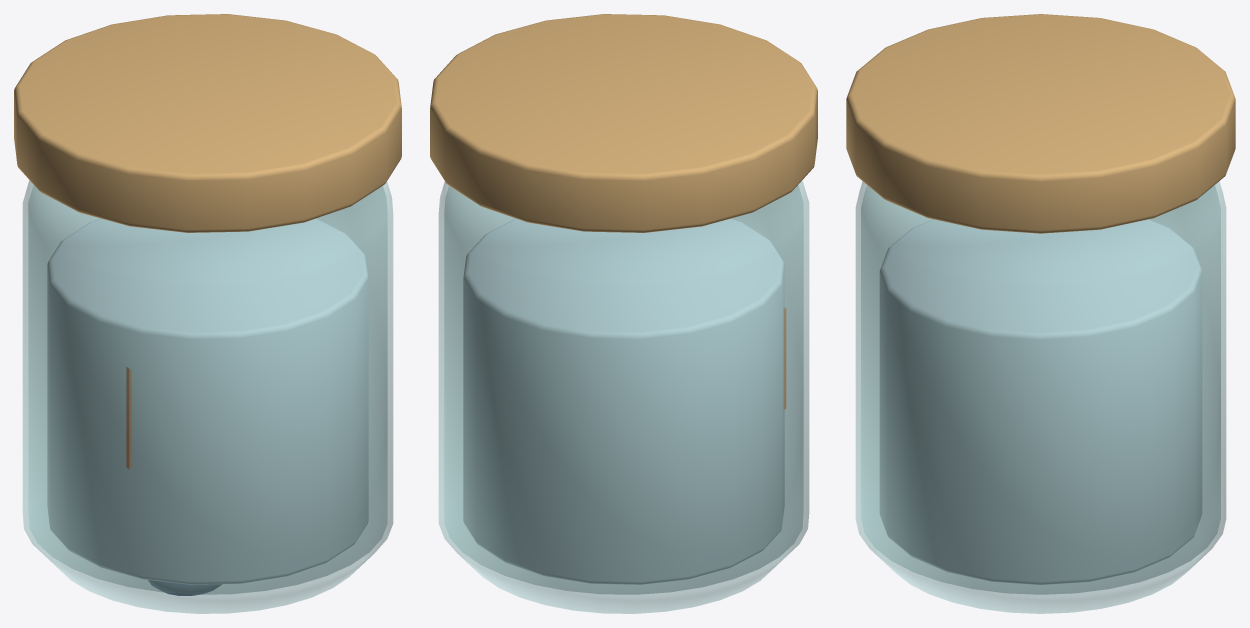
Rendered from fish_jar.glb.
3 views of the same model, side by side, from view 1: azimuth 30°, elevation 25°; view 2: azimuth 150°, elevation 25°; view 3: azimuth 270°, elevation 25° (orthographic).
Parts seen in each view (by area): view 1: Glass_jar, Translucent_water, Cork_lid, Bottom_pebble.003, Tail; view 2: Glass_jar, Translucent_water, Cork_lid; view 3: Glass_jar, Translucent_water, Cork_lid.
Part boxes in pixels (x1=…): Glass_jar: x1=22, y1=180, x2=393, y2=613; Translucent_water: x1=47, y1=218, x2=368, y2=584; Cork_lid: x1=14, y1=14, x2=401, y2=232; Bottom_pebble.003: x1=148, y1=580, x2=221, y2=595; Tail: x1=126, y1=367, x2=131, y2=468; Glass_jar: x1=438, y1=180, x2=809, y2=613; Translucent_water: x1=463, y1=218, x2=784, y2=584; Cork_lid: x1=430, y1=14, x2=817, y2=232; Glass_jar: x1=855, y1=181, x2=1226, y2=613; Translucent_water: x1=879, y1=219, x2=1202, y2=584; Cork_lid: x1=846, y1=14, x2=1235, y2=233.
Bounding box in the file's own units: 0.21 × 0.2775 × 0.21.
